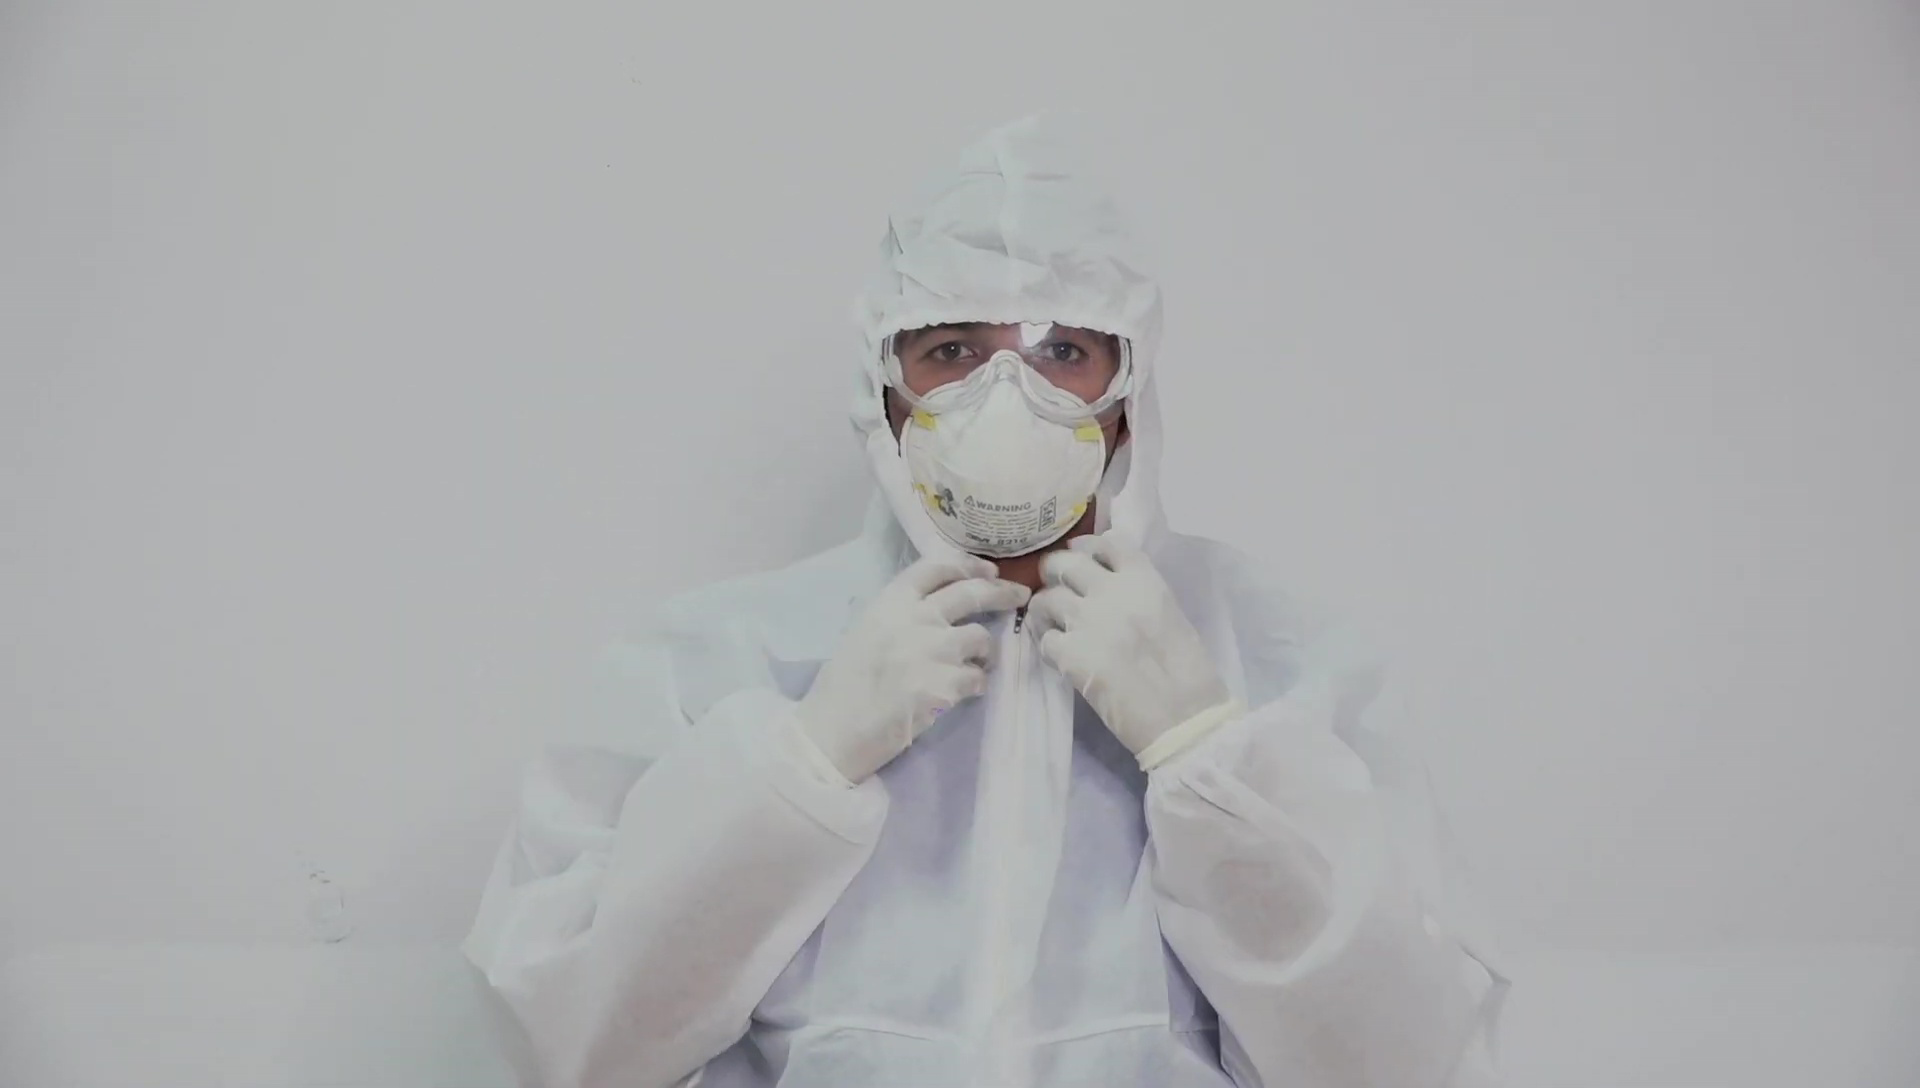Coverall: (462, 118, 1511, 1082)
Gloves: (805, 553, 1032, 789), (1017, 533, 1233, 773)
Goggles: (882, 317, 1134, 432)
with_mask: (900, 362, 1103, 559)
